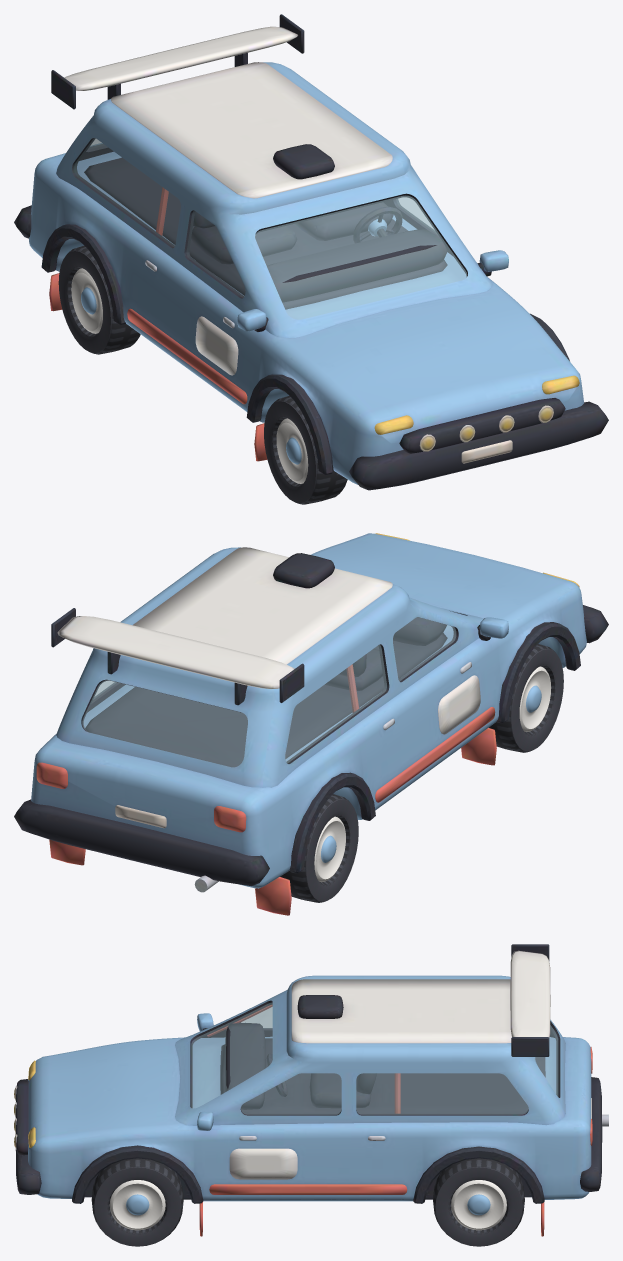
File: rally-car.glb
The picture shows the model from 3 angles, top to bottom: view 1: azimuth 30°, elevation 25°; view 2: azimuth 150°, elevation 25°; view 3: azimuth 270°, elevation 25°; orthographic projection. The views are drawn at different scales.
Visible parts, largest first — view 1: rally-car_body, rally-car_windows, rally-car_wheel_fr, rally-car_wheel_rr; view 2: rally-car_body, rally-car_windows, rally-car_wheel_rr, rally-car_wheel_fr; view 3: rally-car_body, rally-car_windows, rally-car_wheel_fl, rally-car_wheel_rl.
Part boxes in pixels (left/top/right/bottom): rally-car_body: left=14, top=14, right=608, bottom=490; rally-car_windows: left=74, top=138, right=466, bottom=319; rally-car_wheel_fr: left=264, top=396, right=347, bottom=504; rally-car_wheel_rr: left=58, top=245, right=140, bottom=354; rally-car_body: left=14, top=533, right=608, bottom=915; rally-car_windows: left=82, top=617, right=455, bottom=766; rally-car_wheel_rr: left=280, top=794, right=358, bottom=902; rally-car_wheel_fr: left=489, top=644, right=563, bottom=752; rally-car_body: left=14, top=944, right=608, bottom=1236; rally-car_windows: left=191, top=1003, right=557, bottom=1114; rally-car_wheel_fl: left=91, top=1158, right=183, bottom=1246; rally-car_wheel_rl: left=433, top=1158, right=524, bottom=1246.
Bounding box in the file's own units: 1.9 × 1.69 × 4.39.
Materials: 18 (5 with a texture image).
